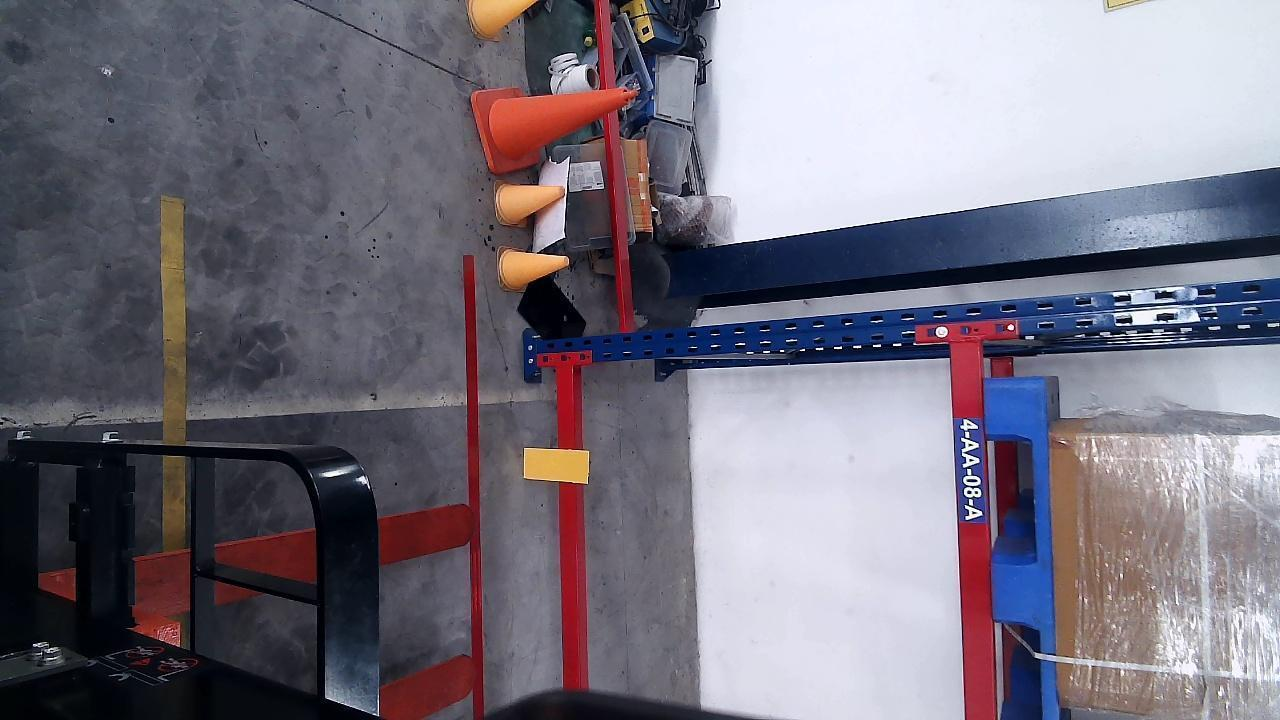red_line: (462, 253, 488, 717)
yellow_line: (161, 195, 186, 550)
